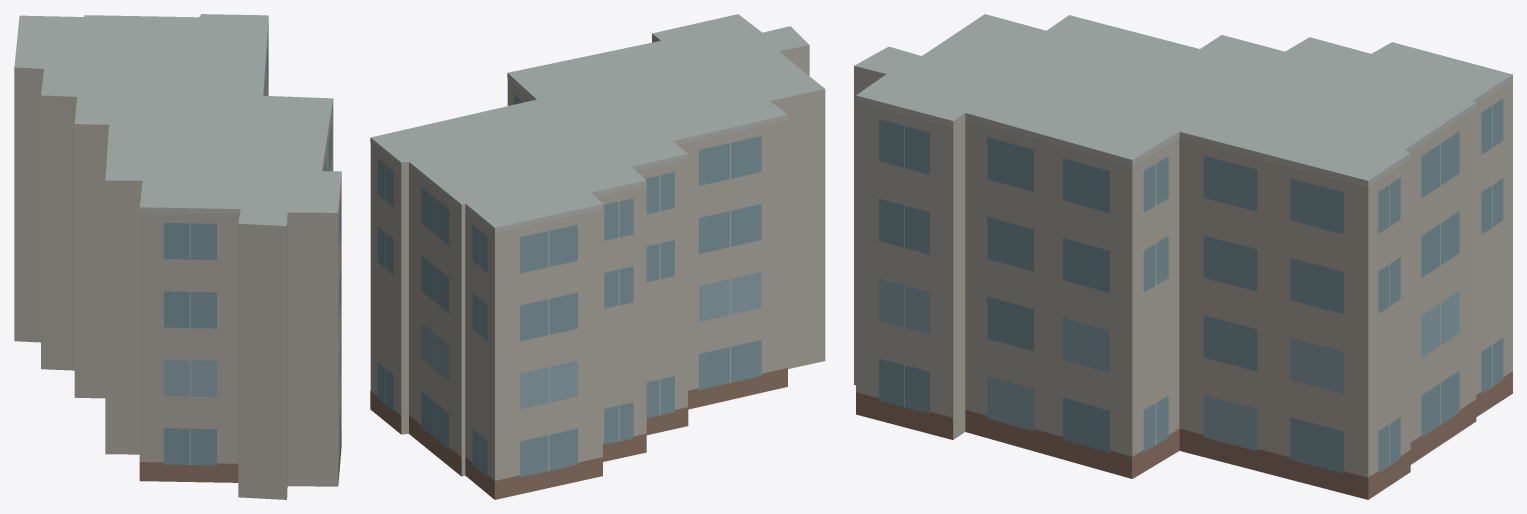
File: survey-upis-32814688.glb
The picture shows the model from 3 angles, left to right: view 1: azimuth 30°, elevation 25°; view 2: azimuth 150°, elevation 25°; view 3: azimuth 270°, elevation 25°; orthographic projection. The views are drawn at different scales.
Visible parts, largest first — view 1: survey-upis-32814688.tmp; view 2: survey-upis-32814688.tmp; view 3: survey-upis-32814688.tmp.
Boxes of the visible parts, x1,y1,x2,y2 form: survey-upis-32814688.tmp: [14, 14, 341, 499]; survey-upis-32814688.tmp: [370, 14, 825, 499]; survey-upis-32814688.tmp: [854, 14, 1512, 499].
Size of the model in its own units: 14.76 by 13.15 by 24.61.
